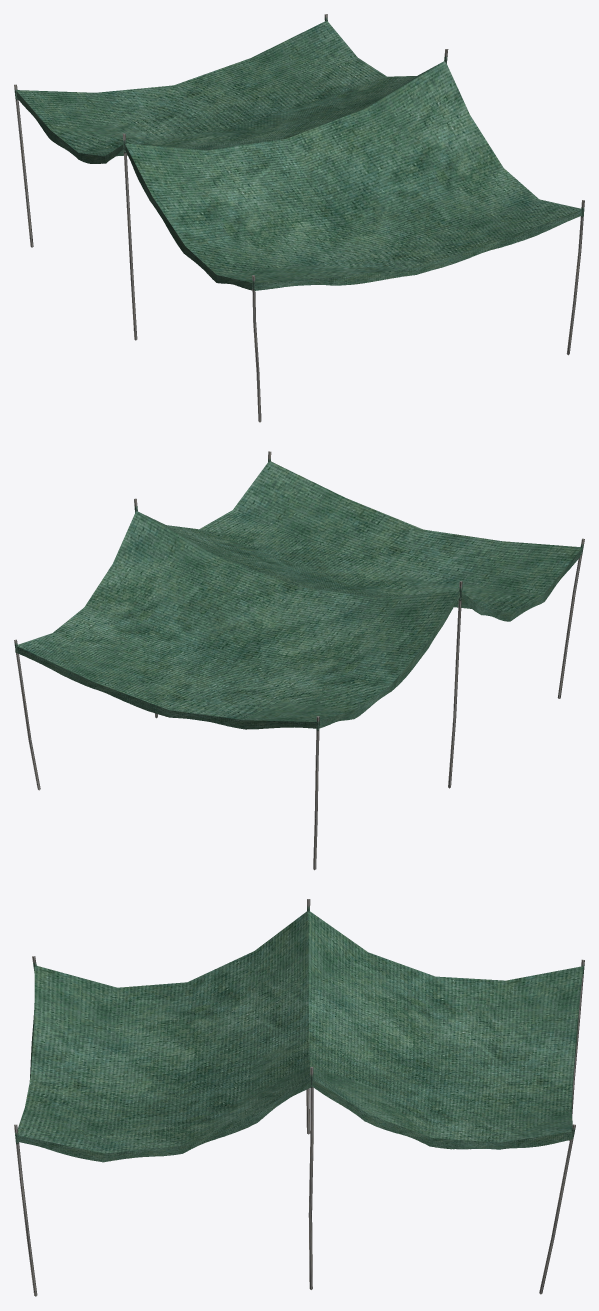
Rendered from poi_nboo_tent_med_l1.fbx.
3 views of the same model, one above another, from view 1: azimuth 30°, elevation 25°; view 2: azimuth 150°, elevation 25°; view 3: azimuth 270°, elevation 25° (orthographic). The views are drawn at different scales.
Parts seen in each view (by area): view 1: mesh_node; view 2: mesh_node; view 3: mesh_node.
Boxes of the visible parts, x1=… form: mesh_node: x1=14, y1=14, x2=584, y2=422; mesh_node: x1=14, y1=451, x2=584, y2=870; mesh_node: x1=14, y1=899, x2=584, y2=1296.
Size of the model in its own units: 6.53 by 4.07 by 9.03.
